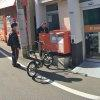bicycles: (26, 40, 55, 78)
